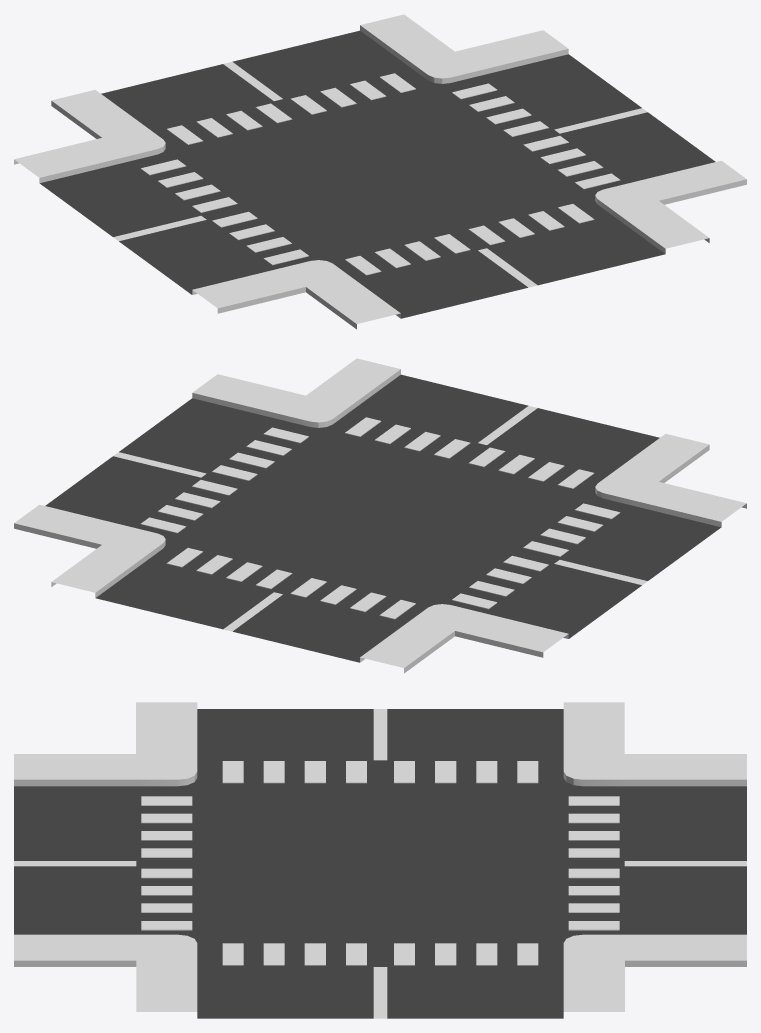
Rendered from two-lane-intersaction.fbx.
3 views of the same model, one above another, from view 1: azimuth 30°, elevation 25°; view 2: azimuth 150°, elevation 25°; view 3: azimuth 270°, elevation 25° (orthographic). The views are drawn at different scales.
Parts seen in each view (by area): view 1: two-lane-intersaction; view 2: two-lane-intersaction; view 3: two-lane-intersaction.
Boxes of the visible parts, x1,y1,x2,y2 form: two-lane-intersaction: (14, 14, 746, 329); two-lane-intersaction: (14, 358, 746, 673); two-lane-intersaction: (14, 702, 746, 1018).
Size of the model in its own units: 16.82 by 0.165 by 16.82.
